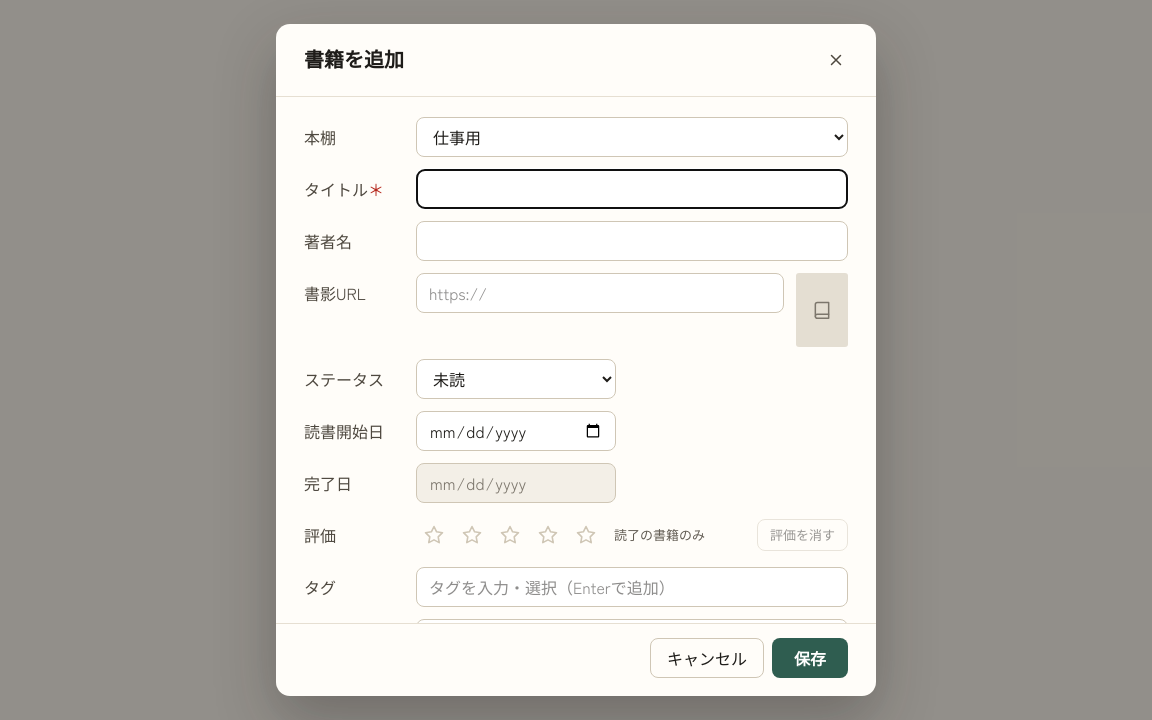
登録モード › タイトルが未入力なら、入力欄の下にエラーを表示して送らない
The image size is (1152, 720).
Click the button "保存": (810, 658) [772, 638, 848, 678]
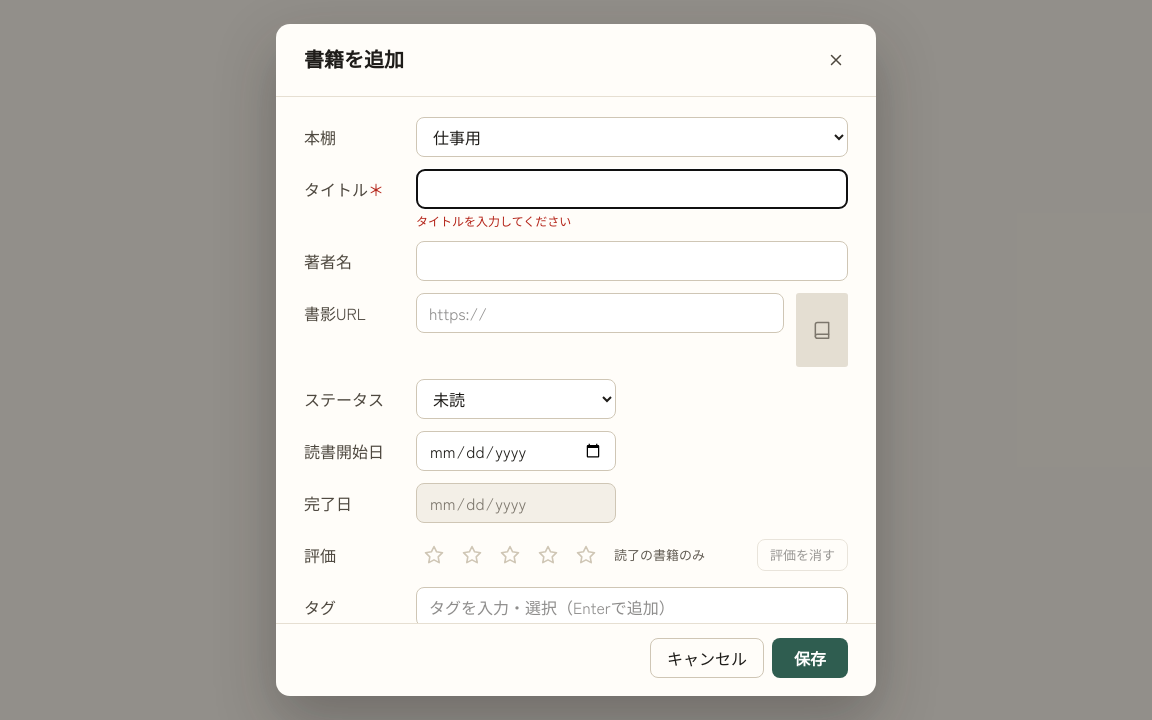
Now the text "タイトルを入力してください" is shown, box [416, 212, 571, 229]
In the field labelled "タイトル＊": (632, 189) [416, 169, 848, 209], type "三"
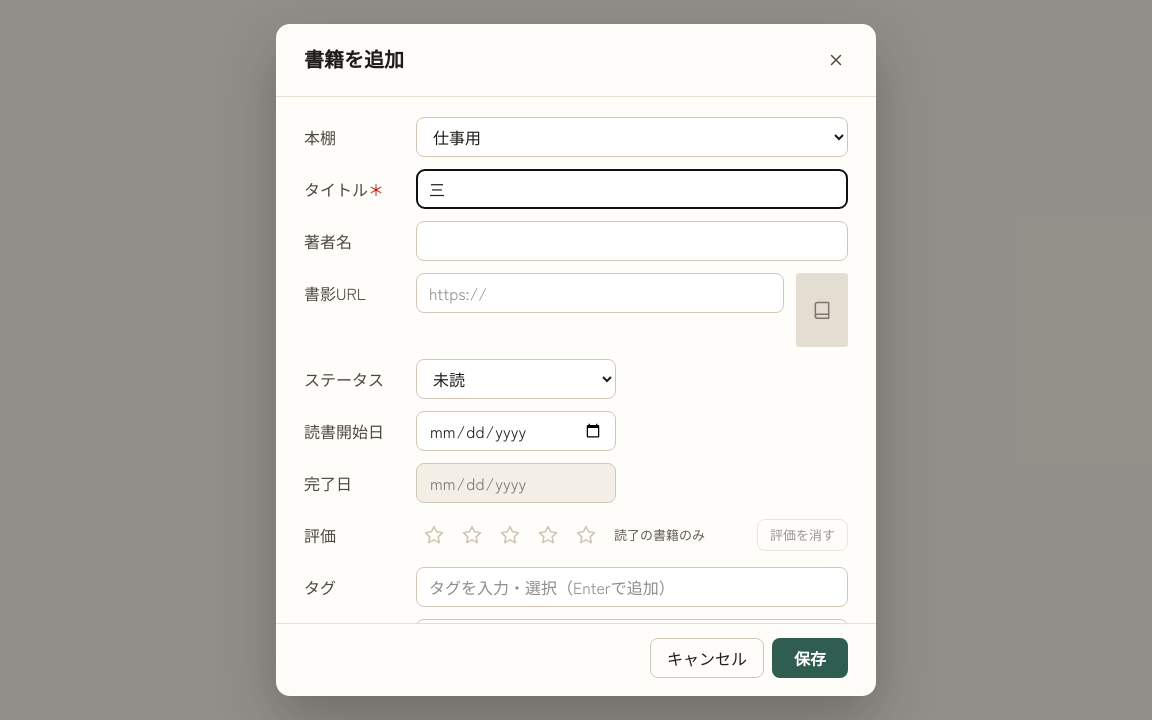
Now the text "タイトルを入力してください" is gone
